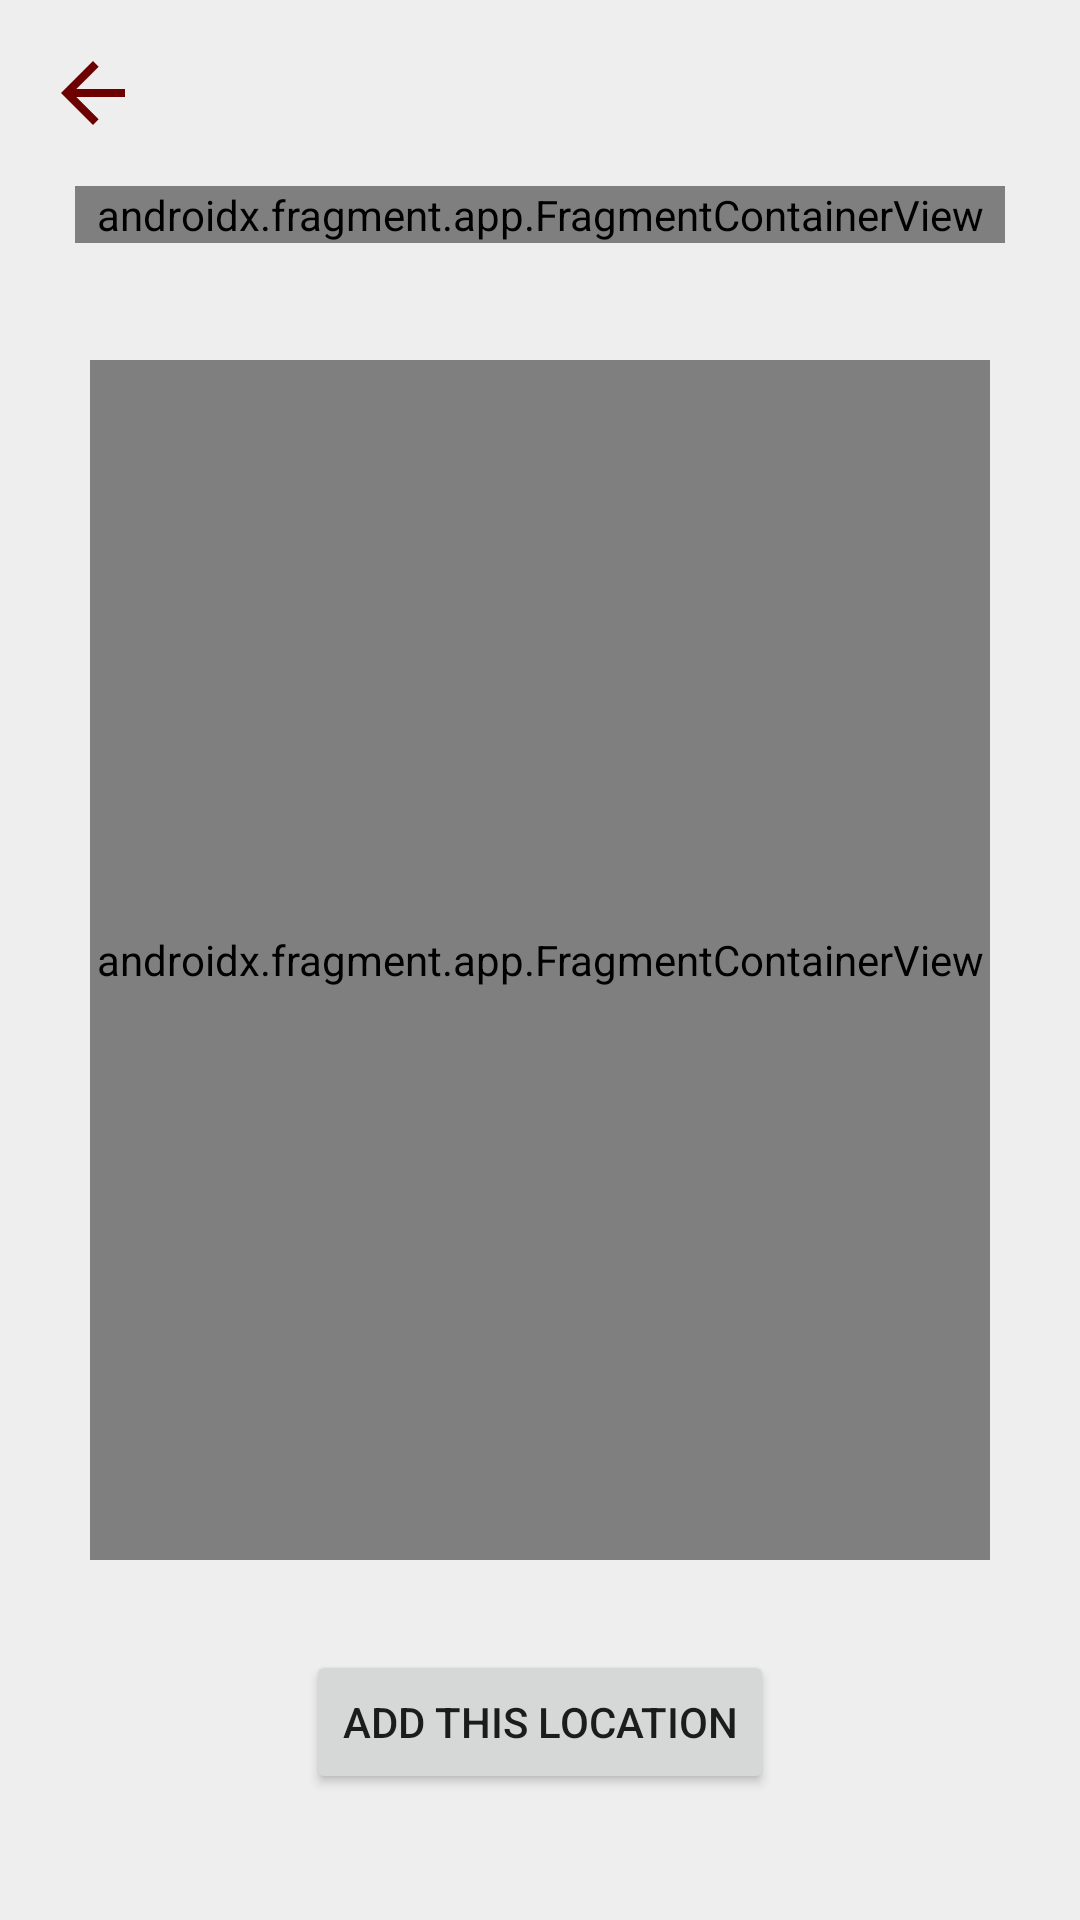

Icons on this 1080w x 1920h Android screen, each with its box as (x1, y1, x2, y2):
arrow back: (61, 61, 125, 125)
